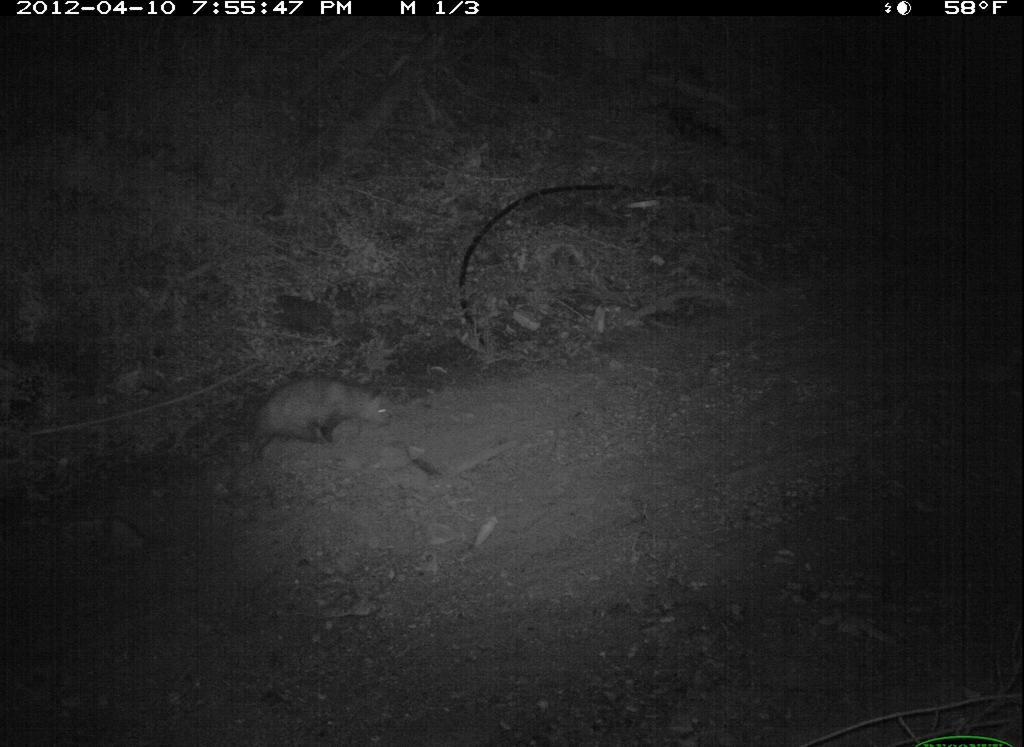opossum: (232, 361, 410, 479)
